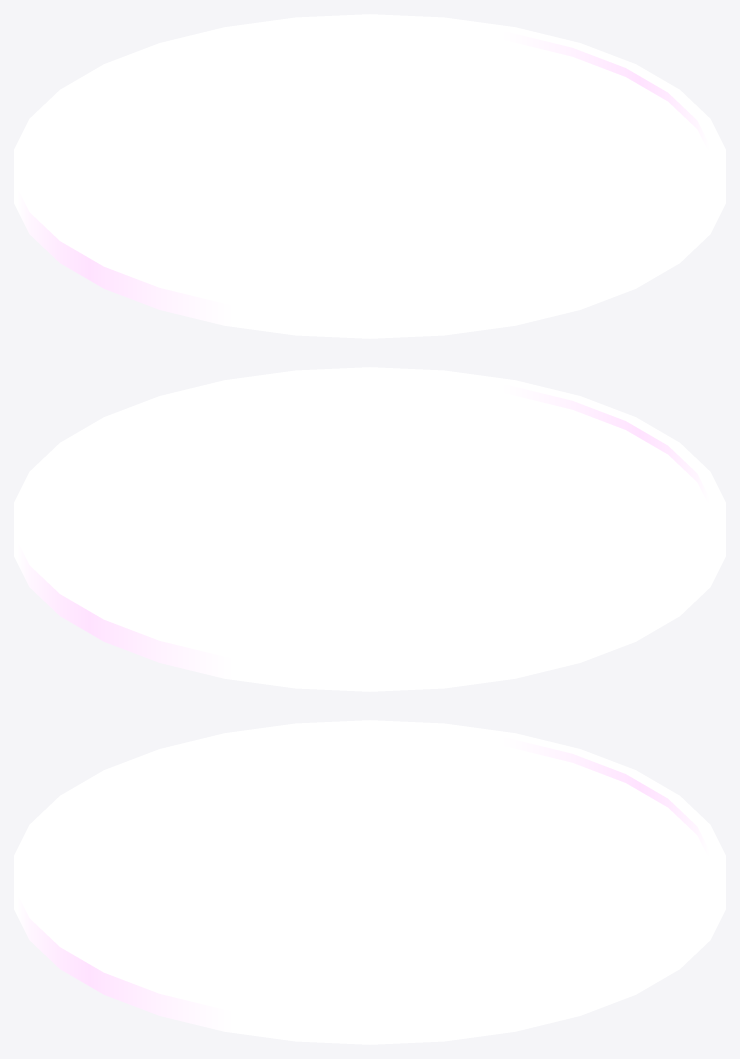
The model's file is SFI0510015.fbx.
3 renders of one model, top to bottom at view 1: azimuth 30°, elevation 25°; view 2: azimuth 150°, elevation 25°; view 3: azimuth 270°, elevation 25°, orthographic.
Parts seen in each view (by area): view 1: smSFI0510015; view 2: smSFI0510015; view 3: smSFI0510015.
Part boxes in pixels (x1,y1,x2,y2): smSFI0510015: [14, 14, 725, 338]; smSFI0510015: [14, 367, 725, 691]; smSFI0510015: [14, 720, 725, 1044].
Bounding box in the file's own units: 200 × 6.83 × 199.
